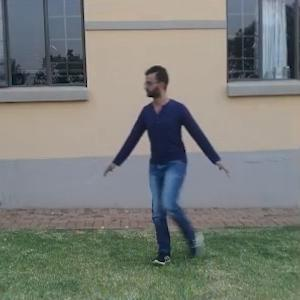land: (105, 77, 227, 238)
